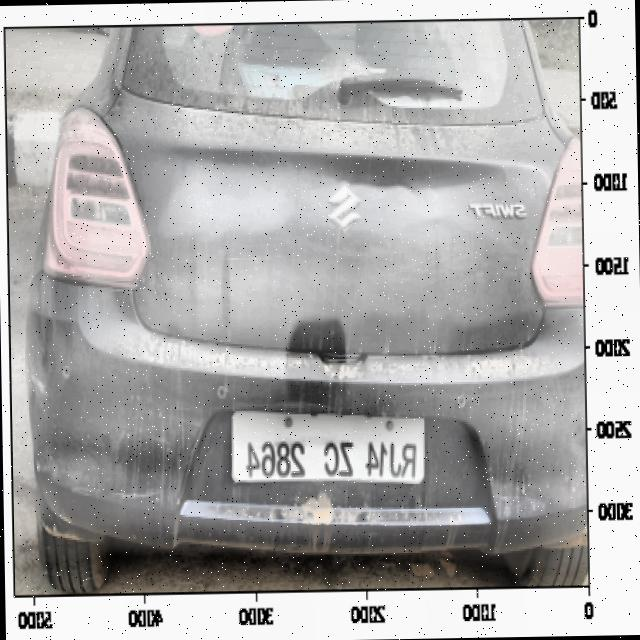license_plate: (236, 420, 422, 486)
